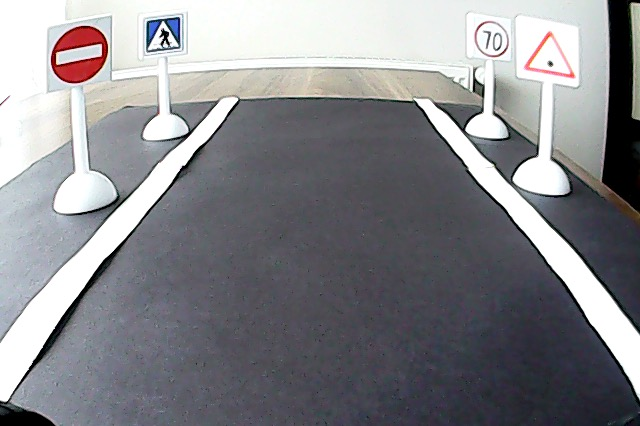do not enter: (48, 22, 111, 87)
green light: (521, 27, 579, 82)
pedestrian crossing: (141, 13, 185, 55)
speed limit 70: (471, 18, 512, 60)
